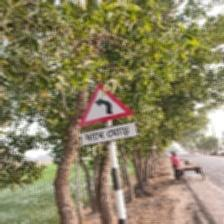Left-Turn: (78, 83, 138, 148)
